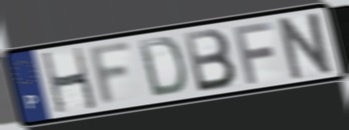B: (181, 26, 239, 95)
D: (135, 35, 188, 100)
F: (87, 38, 136, 110), (230, 19, 276, 86)
H: (39, 45, 100, 116)
N: (276, 9, 337, 83)
